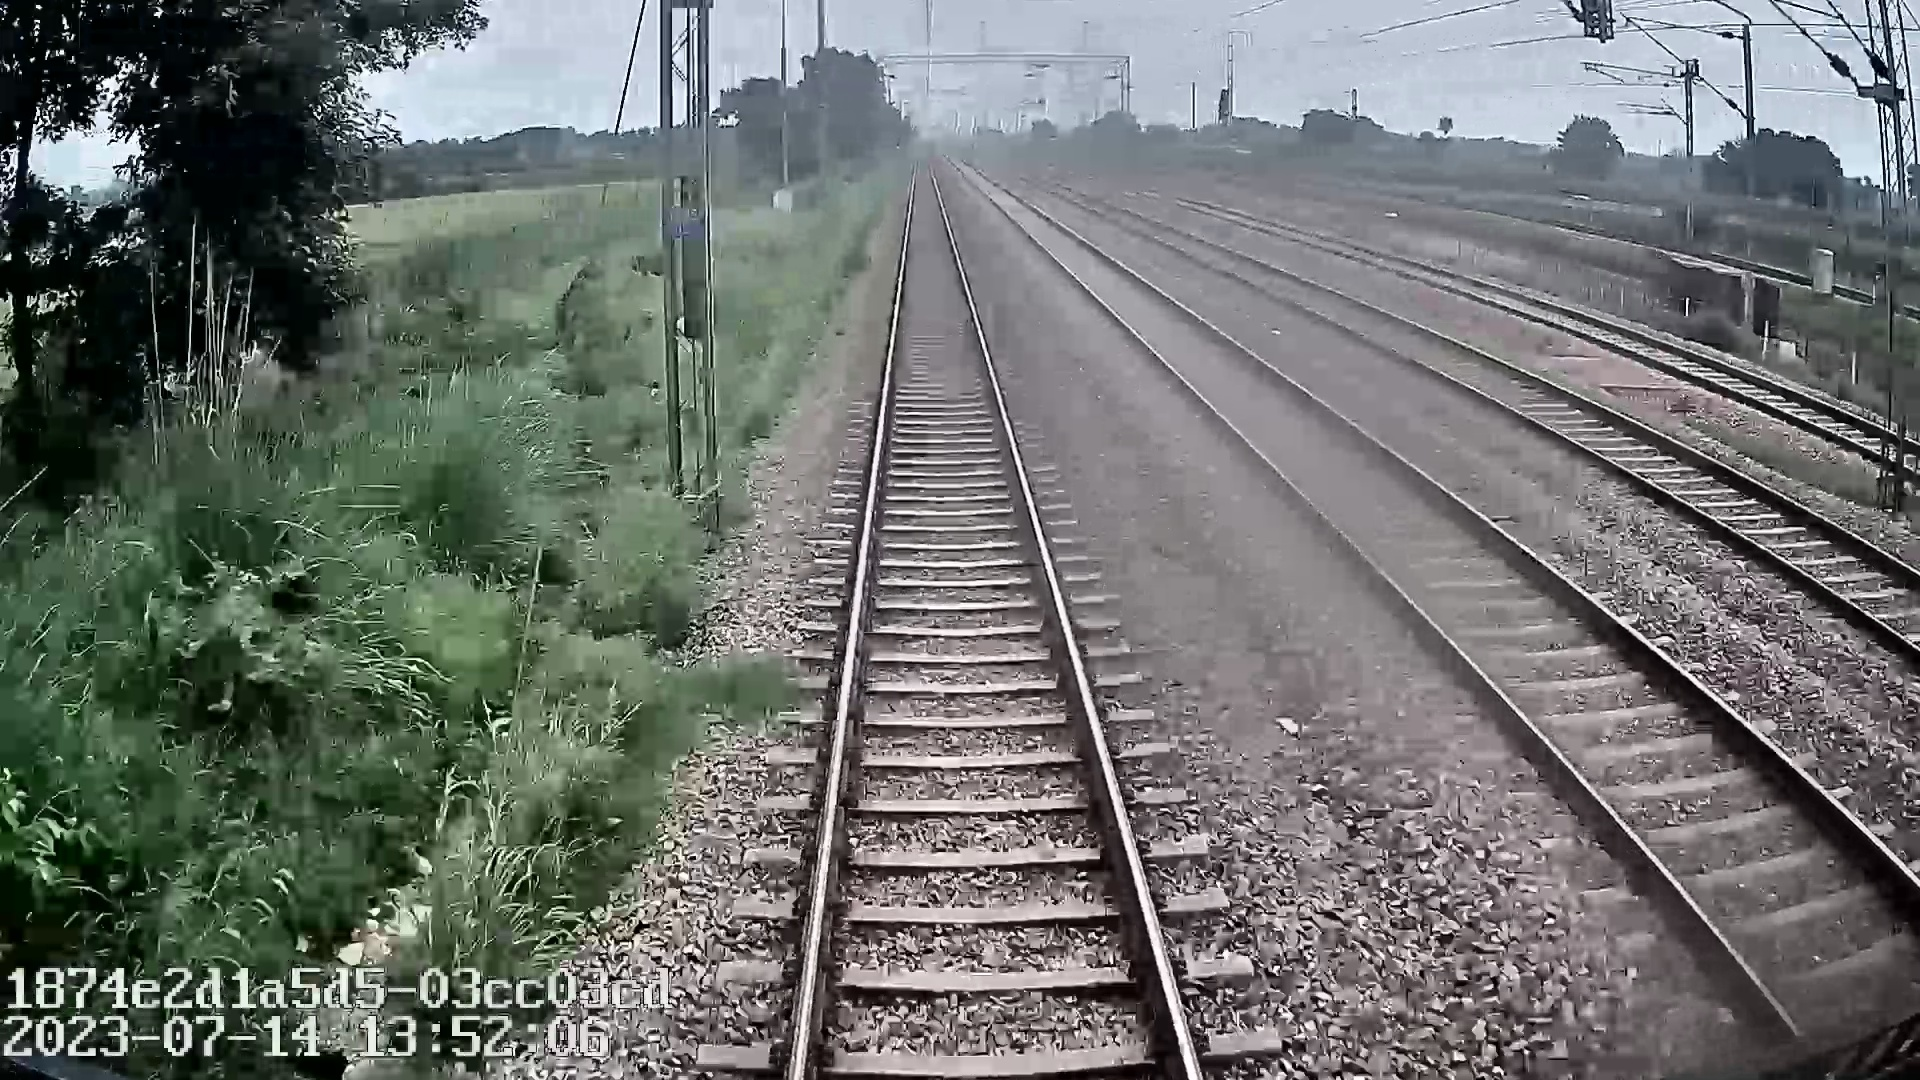track1: (800, 195, 1184, 1062)
track2: (1002, 206, 1912, 984)
track3: (1153, 231, 1919, 613)
track4: (1246, 218, 1884, 455)
